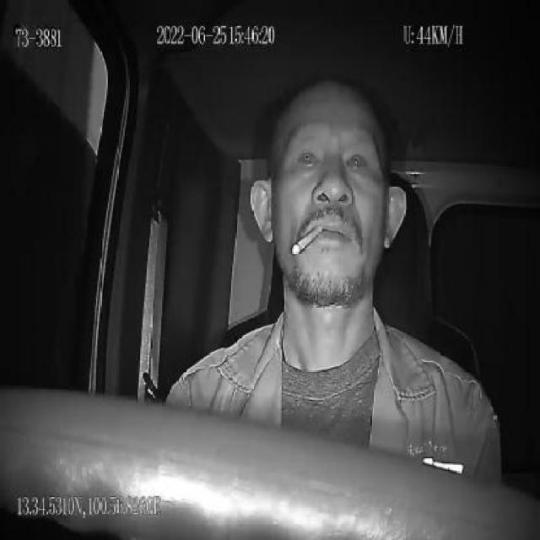smoking: (292, 225, 321, 255)
